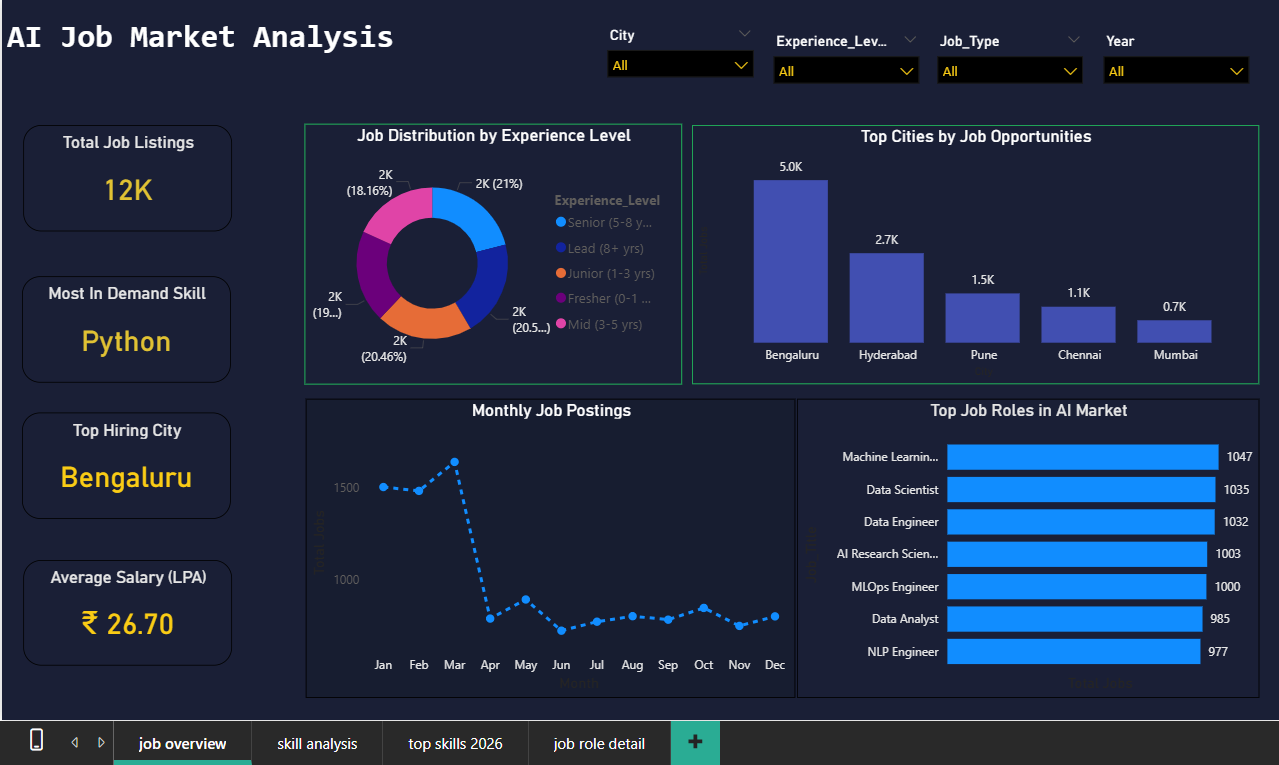

What the dashboard file says about the page in this screenshot:
{"tool":"powerbi","page":{"name":"job overview","canvas":[1280,720],"ordinal":0},"visuals":[{"type":"card","title":"Total Job Listings","fields":{"Values":["calculation_Table.Total Jobs"]},"box":[20.9,125.2,208.6,106.7],"z":0},{"type":"card","title":"Average Salary (LPA)","fields":{"Values":["calculation_Table.Avg Salary"]},"box":[20.9,559.5,208.6,105.5],"z":1000},{"type":"card","title":"Most In Demand Skill","fields":{"Values":["calculation_Table.Top Skill"]},"box":[20.6,275.8,208.6,106],"z":2000},{"type":"card","title":"Top Hiring City","fields":{"Values":["calculation_Table.Top City"]},"box":[20.6,413,208.6,106],"z":3000},{"type":"lineChart","title":"Monthly Job Postings","fields":{"Category":["Date_Table.Month"],"Y":["calculation_Table.Total Jobs"]},"box":[303.3,399.3,489.9,299.1],"z":4000},{"type":"clusteredBarChart","title":"Top Job Roles in AI Market","fields":{"Category":["ai_job_market_india.Job_Title"],"Y":["calculation_Table.Total Jobs"]},"box":[794.5,399.3,462.4,299.1],"z":5000},{"type":"donutChart","title":"Job Distribution by Experience Level","fields":{"Y":["calculation_Table.Total Jobs"],"Category":["ai_job_market_india.Experience_Level"]},"box":[303,124.2,377.3,260.6],"z":6000},{"type":"slicer","fields":{"Values":["ai_job_market_india.City"]},"box":[595.1,20.9,166.9,76.1],"z":7000},{"type":"clusteredColumnChart","title":"Top Cities by Job Opportunities","fields":{"Y":["calculation_Table.Total Jobs"],"Category":["ai_job_market_india.City"]},"box":[689.6,125.2,566.9,258.9],"z":8000},{"type":"slicer","fields":{"Values":["ai_job_market_india.Experience_Level"]},"box":[761.6,27.4,166,70],"z":9000},{"type":"textbox","box":[0,12.1,431.8,71.2],"z":10000},{"type":"slicer","fields":{"Values":["ai_job_market_india.Job_Type"]},"box":[924.9,27.4,166,70],"z":11000},{"type":"slicer","fields":{"Values":["Date_Table.Year"]},"box":[1090.9,27.4,166,70],"z":12000}]}

Visuals, with their boxes on the page's 1280x720 design canvas (x1, y1, x2, y2). These are canvas units, not pixel positions in the 1279x765 screenshot, which may show the page scaled, cropped or inside an application window:
"Total Job Listings" card: bbox=[21, 125, 230, 232]
"Average Salary (LPA)" card: bbox=[21, 560, 230, 665]
"Most In Demand Skill" card: bbox=[21, 276, 229, 382]
"Top Hiring City" card: bbox=[21, 413, 229, 519]
"Monthly Job Postings" lineChart: bbox=[303, 399, 793, 698]
"Top Job Roles in AI Market" clusteredBarChart: bbox=[794, 399, 1257, 698]
"Job Distribution by Experience Level" donutChart: bbox=[303, 124, 680, 385]
slicer - ai_job_market_india.City: bbox=[595, 21, 762, 97]
"Top Cities by Job Opportunities" clusteredColumnChart: bbox=[690, 125, 1256, 384]
slicer - ai_job_market_india.Experience_Level: bbox=[762, 27, 928, 97]
textbox: bbox=[0, 12, 432, 83]
slicer - ai_job_market_india.Job_Type: bbox=[925, 27, 1091, 97]
slicer - Date_Table.Year: bbox=[1091, 27, 1257, 97]
